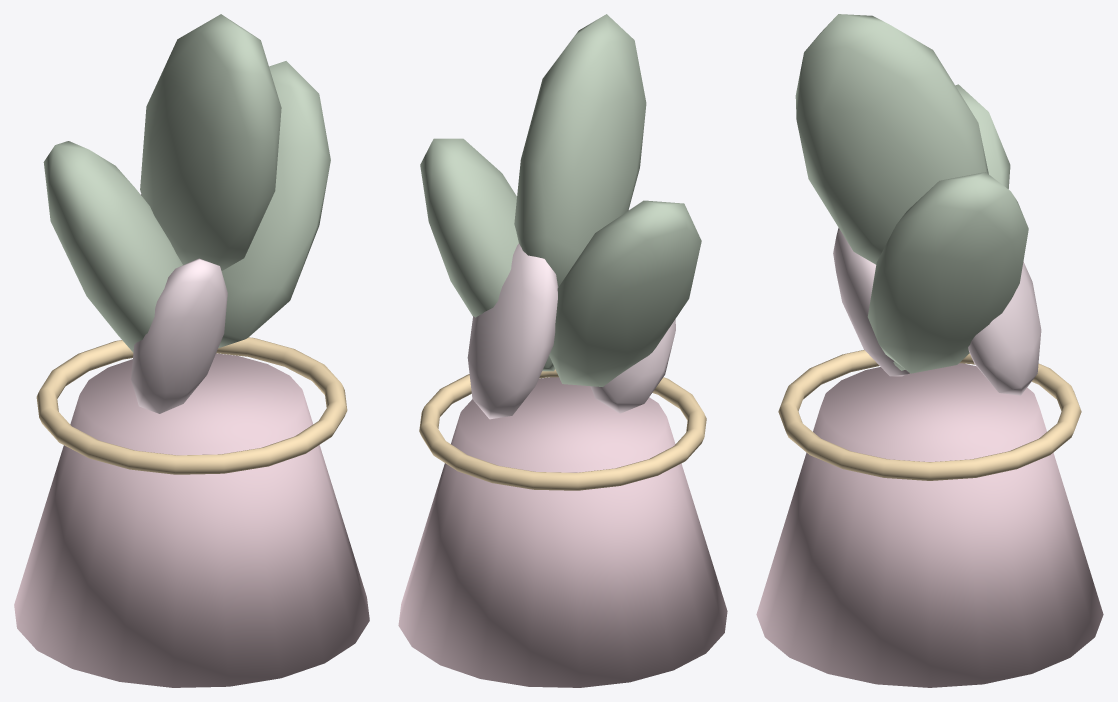
File: planter.glb
3 views of the same model, side by side, from view 1: azimuth 30°, elevation 25°; view 2: azimuth 150°, elevation 25°; view 3: azimuth 270°, elevation 25° (orthographic). The views are drawn at different scales.
Visible parts, largest first — view 1: planter_urn, planter_leaf_2, planter_leaf_0, planter_leaf_1, planter_rim, planter_leaf_4; view 2: planter_urn, planter_leaf_2, planter_leaf_0, planter_leaf_1, planter_leaf_3, planter_rim, planter_leaf_4; view 3: planter_urn, planter_leaf_2, planter_leaf_1, planter_rim, planter_leaf_3, planter_leaf_4, planter_leaf_0.
Part boxes in pixels (x1,y1,x2,y2): planter_urn: (14, 353, 369, 687); planter_leaf_2: (140, 14, 281, 270); planter_leaf_0: (43, 141, 182, 352); planter_leaf_1: (218, 61, 330, 348); planter_rim: (36, 337, 347, 474); planter_leaf_4: (131, 258, 227, 413); planter_urn: (398, 377, 727, 687); planter_leaf_2: (514, 14, 646, 286); planter_leaf_0: (549, 200, 701, 386); planter_leaf_1: (420, 138, 554, 371); planter_leaf_3: (467, 243, 558, 419); planter_rim: (419, 369, 706, 490); planter_leaf_4: (590, 319, 675, 413); planter_urn: (756, 363, 1103, 687); planter_leaf_2: (795, 14, 988, 264); planter_leaf_1: (867, 172, 1028, 373); planter_rim: (778, 350, 1081, 480); planter_leaf_3: (968, 261, 1041, 395); planter_leaf_4: (833, 228, 909, 376); planter_leaf_0: (893, 84, 1010, 370).
Size of the model in its own units: 0.76 by 1.45 by 0.76.
